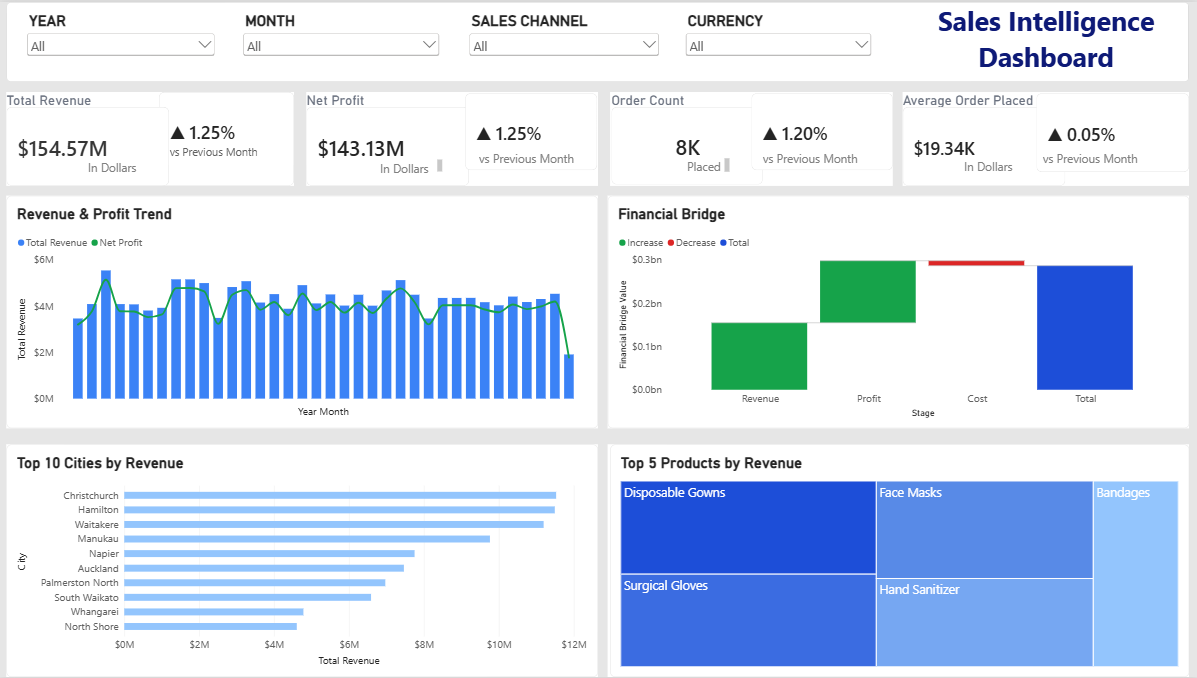

The page's visual inventory and layout, read from the dashboard file:
{"tool":"powerbi","page":{"name":"Page 1","canvas":[1920,1080],"ordinal":0},"visuals":[{"type":"shape","box":[11.7,0,1891.7,128.3],"z":0},{"type":"slicer","fields":{"Values":["Date.Year"]},"box":[40,15,310,111.7],"z":1000},{"type":"slicer","fields":{"Values":["Date.Month"]},"box":[385,15,323.3,98.3],"z":2000},{"type":"slicer","fields":{"Values":["sales_db fact_sales.channel"]},"box":[748.3,15,313.3,81.7],"z":3000},{"type":"slicer","fields":{"Values":["sales_db fact_sales.currency_code"]},"box":[1093.3,15,306.7,100],"z":4000},{"type":"textbox","box":[1446.7,0,458.3,156.7],"z":5000},{"type":"shape","box":[11.7,143.3,460,150],"z":6000},{"type":"shape","box":[491.7,143.3,466.7,150],"z":7000},{"type":"shape","box":[978.3,143.3,451.7,150],"z":8000},{"type":"shape","box":[1446,144,458,150],"z":9000},{"type":"cardVisual","fields":{"Data":["sales_db fact_sales.Revenue MoM %"]},"box":[256,144,216,150],"z":10000},{"type":"cardVisual","title":"Total Revenue","fields":{"Data":["sales_db fact_sales.Total Revenue"]},"box":[12,144,260,150],"z":11000},{"type":"cardVisual","title":"Net Profit","fields":{"Data":["sales_db fact_sales.Net Profit"]},"box":[492,144,260,150],"z":12000},{"type":"cardVisual","fields":{"Data":["sales_db fact_sales.Profit MoM %"]},"box":[745.6,146.6,211.7,123.1],"z":13000},{"type":"cardVisual","title":"Order Count","fields":{"Data":["sales_db fact_sales.Order Count"]},"box":[979,144.8,242.5,148.4],"z":14000},{"type":"cardVisual","fields":{"Data":["sales_db fact_sales.Order Count MoM %"]},"box":[1203.4,146.6,226.2,123.1],"z":15000},{"type":"cardVisual","title":"Average Order Placed","fields":{"Data":["sales_db fact_sales.Average Order Value"]},"box":[1446,144,260,150],"z":16000},{"type":"cardVisual","fields":{"Data":["sales_db fact_sales.AOV MoM %"]},"box":[1659.5,146.6,244.3,126.7],"z":17000},{"type":"shape","box":[12,310,946,372],"z":18000},{"type":"shape","box":[974,310,930,372],"z":19000},{"type":"shape","box":[12,708,946,372],"z":20000},{"type":"shape","box":[974,708,930,372],"z":21000},{"type":"lineClusteredColumnComboChart","title":"Revenue & Profit Trend","fields":{"Category":["Date.Year Month"],"Y":["sales_db fact_sales.Total Revenue"],"Y2":["sales_db fact_sales.Net Profit"]},"box":[11.7,310,946,372],"z":22000},{"type":"waterfallChart","title":"Financial Bridge ","fields":{"Category":["Bridge Stage.Stage"],"Y":["sales_db fact_sales.Financial Bridge Value"]},"box":[974,310,930,372],"z":23000},{"type":"clusteredBarChart","title":"Top 10 Cities by Revenue","fields":{"Category":["sales_db dim_region.city"],"Y":["sales_db fact_sales.Total Revenue"]},"box":[12,708,946,372],"z":24000},{"type":"treemap","title":"Top 5 Products by Revenue","fields":{"Group":["sales_db dim_product.product_name"],"Values":["sales_db fact_sales.Total Revenue"]},"box":[978,708,926,372],"z":25000},{"type":"textbox","box":[141.2,251.5,88.7,41.6],"z":25001},{"type":"textbox","box":[609.9,251.5,99.5,21.7],"z":25002},{"type":"textbox","box":[767.3,237.1,206.3,25.3],"z":25003},{"type":"textbox","box":[1100.3,249.7,68.8,23.5],"z":25004},{"type":"textbox","box":[1221.5,237.1,159.3,36.2],"z":25005},{"type":"textbox","box":[1543.6,249.7,251.5,43.4],"z":25006},{"type":"textbox","box":[1670.3,237.1,249.7,36.2],"z":25007}]}

Visuals, with their boxes in screenshot pixels (x1, y1, x2, y2), scaled from the page's 1920x1080 canvas onto the 1197x678 screenshot:
shape: (7, 0, 1187, 81)
slicer - Date.Year: (25, 9, 218, 80)
slicer - Date.Month: (240, 9, 442, 71)
slicer - sales_db fact_sales.channel: (467, 9, 662, 61)
slicer - sales_db fact_sales.currency_code: (682, 9, 873, 72)
textbox: (902, 0, 1188, 98)
shape: (7, 90, 294, 184)
shape: (307, 90, 598, 184)
shape: (610, 90, 892, 184)
shape: (901, 90, 1187, 185)
cardVisual - sales_db fact_sales.Revenue MoM %: (160, 90, 294, 185)
"Total Revenue" cardVisual: (7, 90, 170, 185)
"Net Profit" cardVisual: (307, 90, 469, 185)
cardVisual - sales_db fact_sales.Profit MoM %: (465, 92, 597, 169)
"Order Count" cardVisual: (610, 91, 762, 184)
cardVisual - sales_db fact_sales.Order Count MoM %: (750, 92, 891, 169)
"Average Order Placed" cardVisual: (901, 90, 1064, 185)
cardVisual - sales_db fact_sales.AOV MoM %: (1035, 92, 1187, 172)
shape: (7, 195, 597, 428)
shape: (607, 195, 1187, 428)
shape: (7, 444, 597, 677)
shape: (607, 444, 1187, 677)
"Revenue & Profit Trend" lineClusteredColumnComboChart: (7, 195, 597, 428)
"Financial Bridge " waterfallChart: (607, 195, 1187, 428)
"Top 10 Cities by Revenue" clusteredBarChart: (7, 444, 597, 677)
"Top 5 Products by Revenue" treemap: (610, 444, 1187, 677)
textbox: (88, 158, 143, 184)
textbox: (380, 158, 442, 172)
textbox: (478, 149, 607, 165)
textbox: (686, 157, 729, 172)
textbox: (762, 149, 861, 172)
textbox: (962, 157, 1119, 184)
textbox: (1041, 149, 1196, 172)
